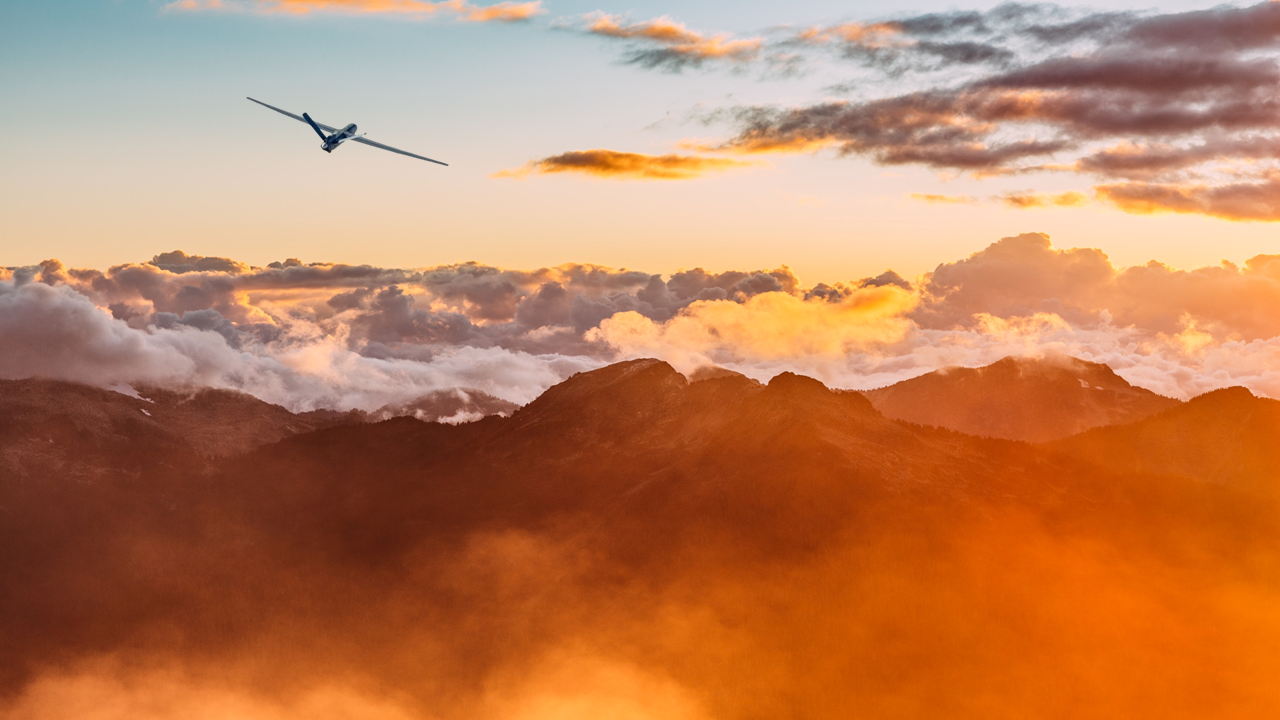military drone: (246, 96, 448, 166)
